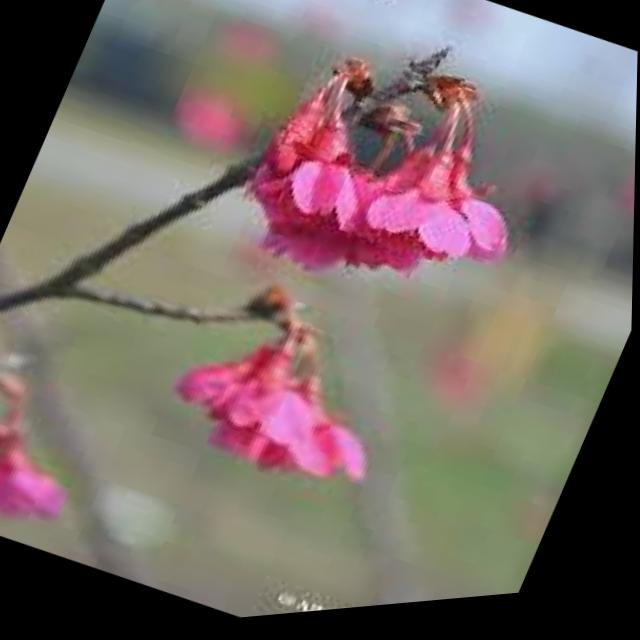Flower: (162, 274, 426, 542), (335, 71, 553, 298), (214, 51, 409, 266), (0, 380, 104, 544)
